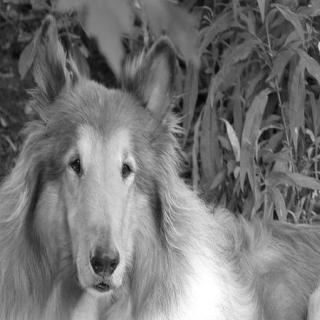dog: (22, 20, 180, 302)
nose: (86, 240, 125, 277)
